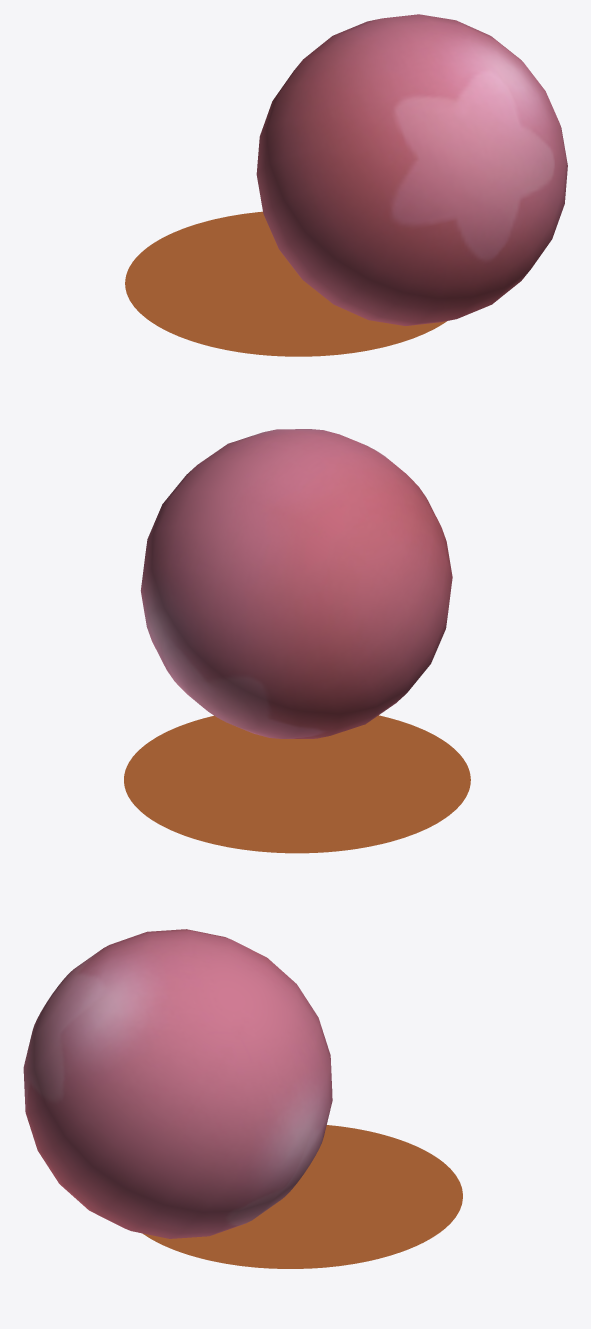
Rendered from 宝宝巴士-主框架-推送地图-游园会-球7.FBX.
The picture shows the model from 3 angles, top to bottom: view 1: azimuth 30°, elevation 25°; view 2: azimuth 150°, elevation 25°; view 3: azimuth 270°, elevation 25°; orthographic projection.
Visible parts, largest first — view 1: 宝宝巴士-主框架-推送地图-游园会-球7; view 2: 宝宝巴士-主框架-推送地图-游园会-球7; view 3: 宝宝巴士-主框架-推送地图-游园会-球7.
Part boxes in pixels (x1=…): 宝宝巴士-主框架-推送地图-游园会-球7: x1=125, y1=14, x2=567, y2=356; 宝宝巴士-主框架-推送地图-游园会-球7: x1=124, y1=429, x2=470, y2=853; 宝宝巴士-主框架-推送地图-游园会-球7: x1=23, y1=929, x2=462, y2=1268.
Size of the model in its own units: 135 by 74.07 by 135.
